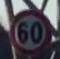limite 60: (9, 9, 52, 55)
